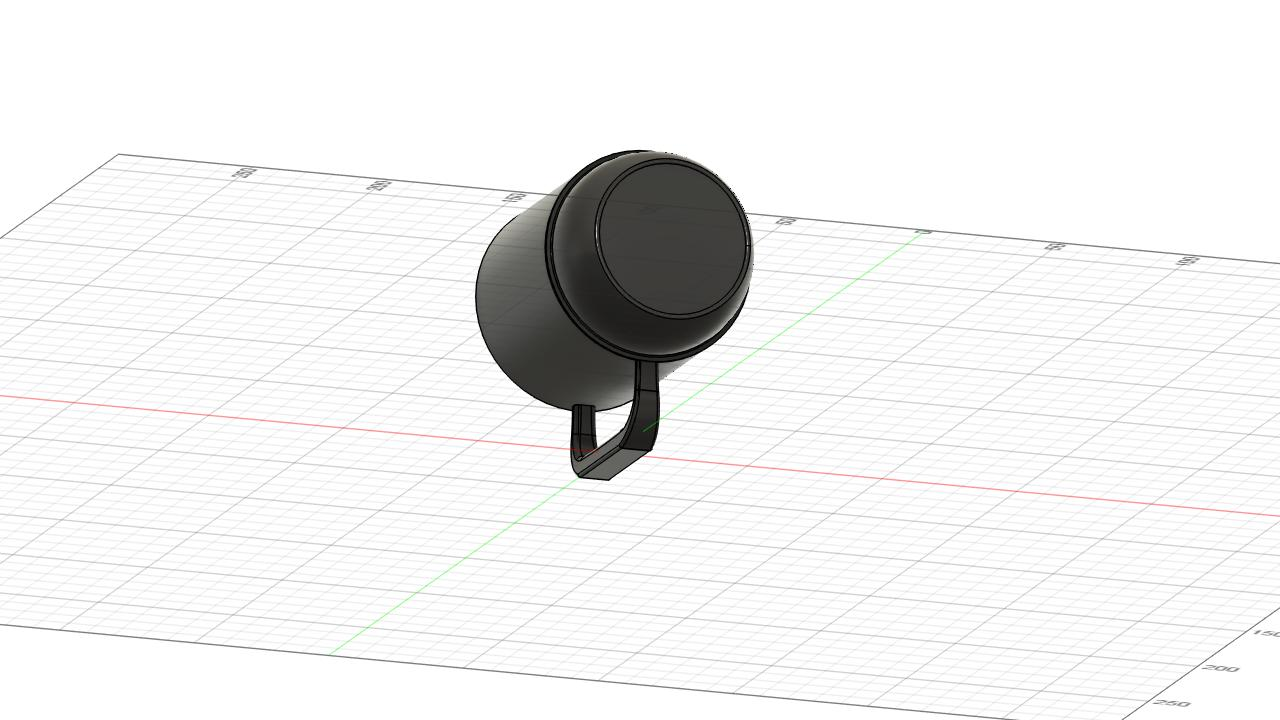mug-real100-3d100: (476, 151, 752, 479)
